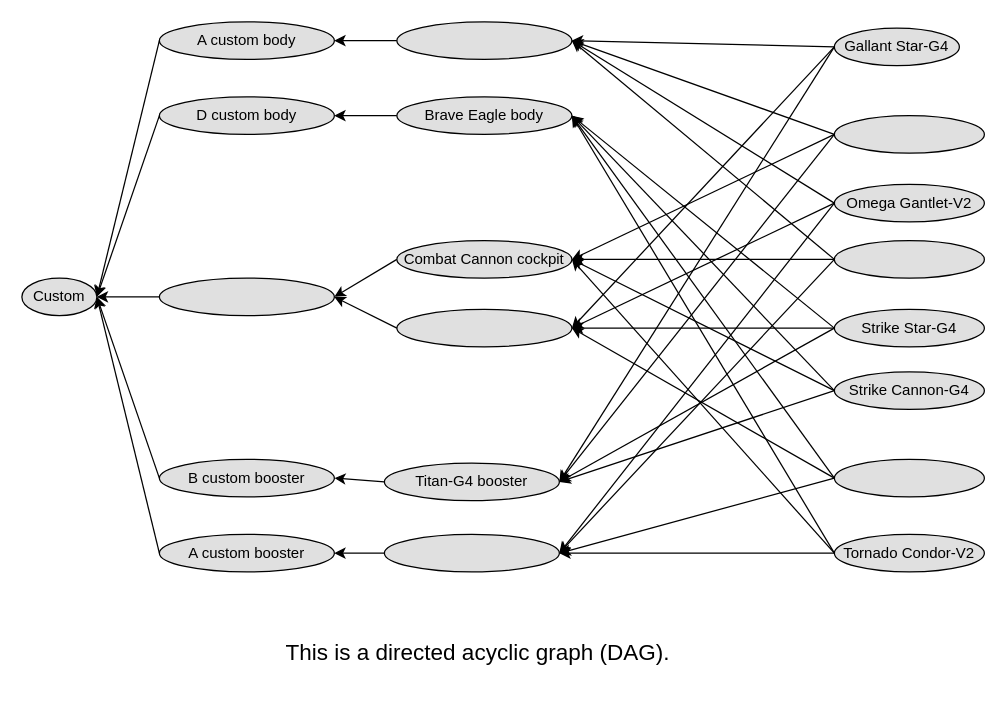
This 1006x706 diagram has some shape labels left out. Here are the shapes that lost their labels. From the top down, the centre of each, then its label:
At point 484,40: "Dread Hammer body".
At point 908,133: "Gallant Cannon-G4".
At point 908,258: "Tornado Gantlet-V2".
At point 246,296: "A custom cockpit".
At point 484,327: "Maximum Star cockpit".
At point 908,477: "Omega Condor-V2".
At point 471,552: "Thunderbolt-V2 booster".
